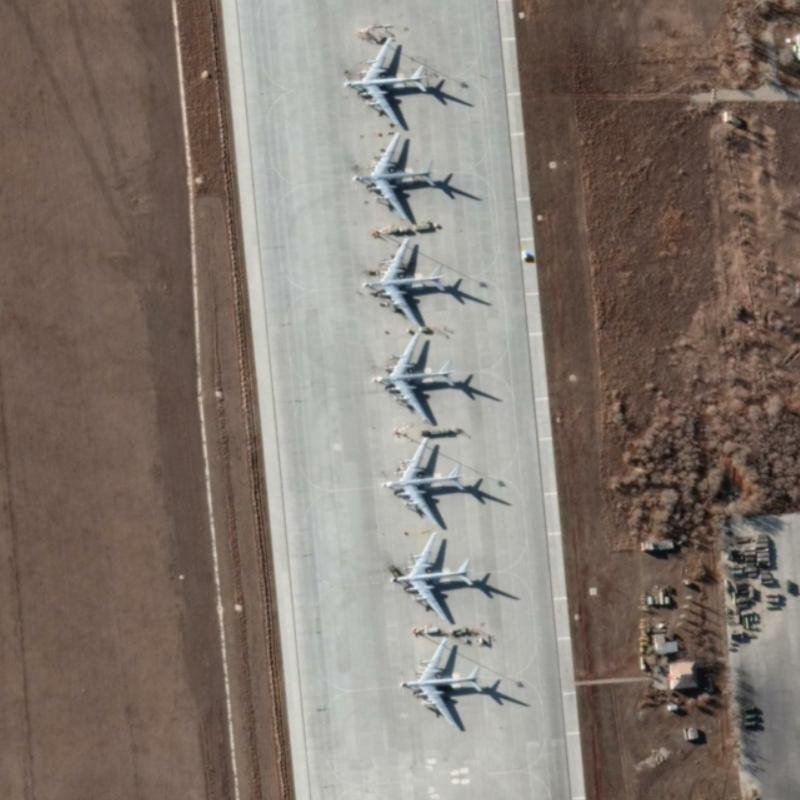A17: (368, 330, 457, 421), (396, 635, 482, 729), (387, 530, 474, 622), (377, 435, 463, 527), (340, 35, 427, 125), (359, 235, 446, 324), (349, 130, 435, 219)
